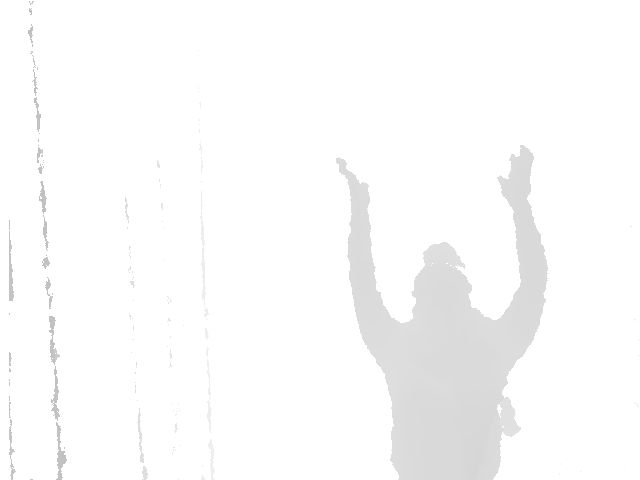hand: (498, 145, 535, 203), (335, 155, 373, 208)
head: (409, 242, 477, 324)
person: (333, 143, 551, 480)
